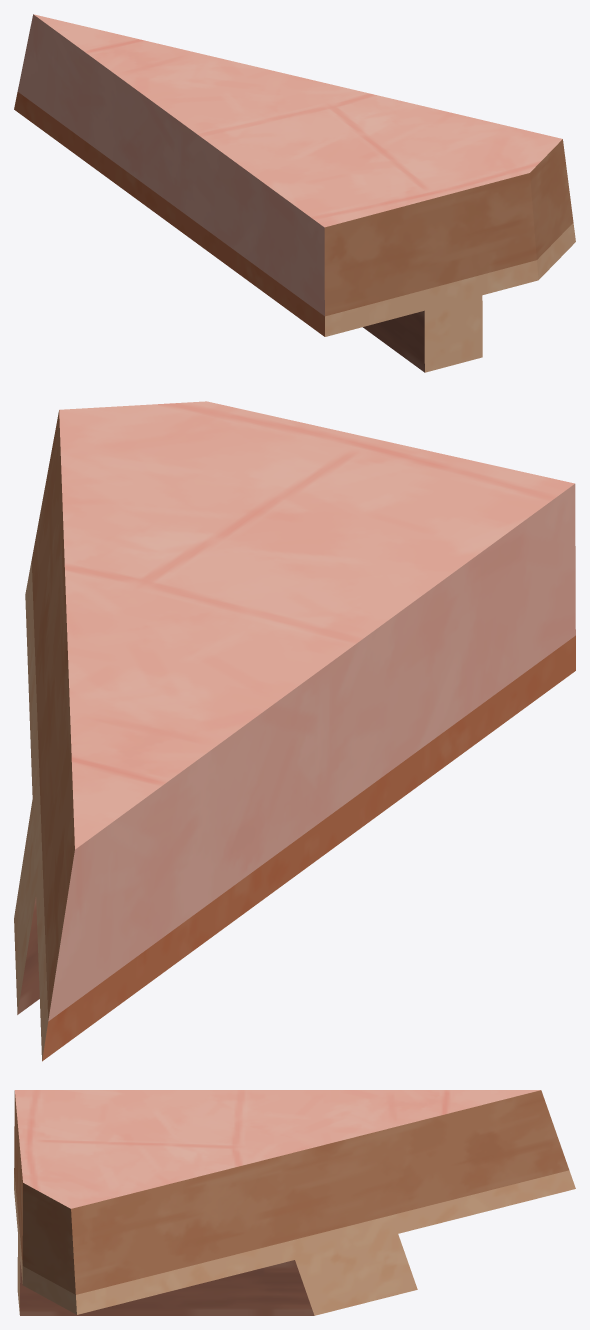
Rendered from floor_s00.fbx.
3 renders of one model, top to bottom at view 1: azimuth 30°, elevation 25°; view 2: azimuth 150°, elevation 25°; view 3: azimuth 270°, elevation 25°, orthographic. The views are drawn at different scales.
Parts seen in each view (by area): view 1: floor_s00; view 2: floor_s00; view 3: floor_s00.
Part boxes in pixels (left/top/right/bottom): floor_s00: left=14, top=14, right=575, bottom=372; floor_s00: left=14, top=401, right=575, bottom=1061; floor_s00: left=14, top=1090, right=575, bottom=1315.
Size of the model in its own units: 2.9 by 1.66 by 5.46.
